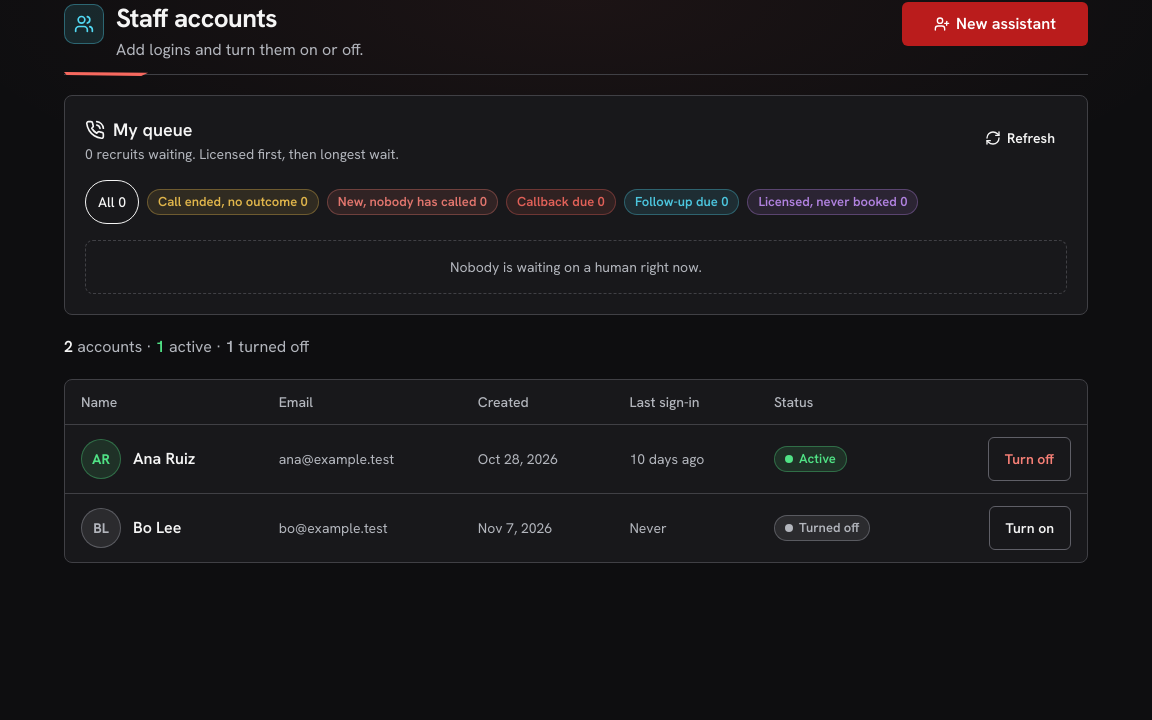
Test: Staff accounts › shows the password the server stored, even when it differs from the one sent
Click the button "New assistant" at (995, 24), box x1=902 y1=2 x2=1088 y2=46
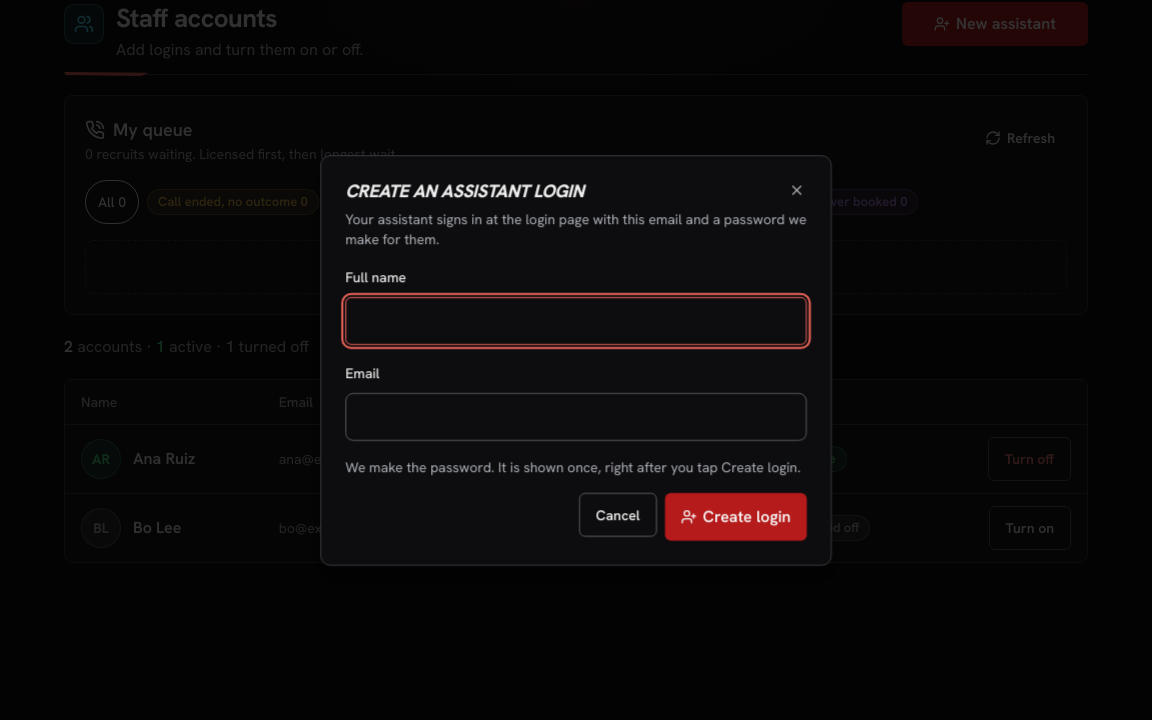
Type "Di Park" into the field labelled "Full name" at (576, 320), box x1=345 y1=296 x2=807 y2=344
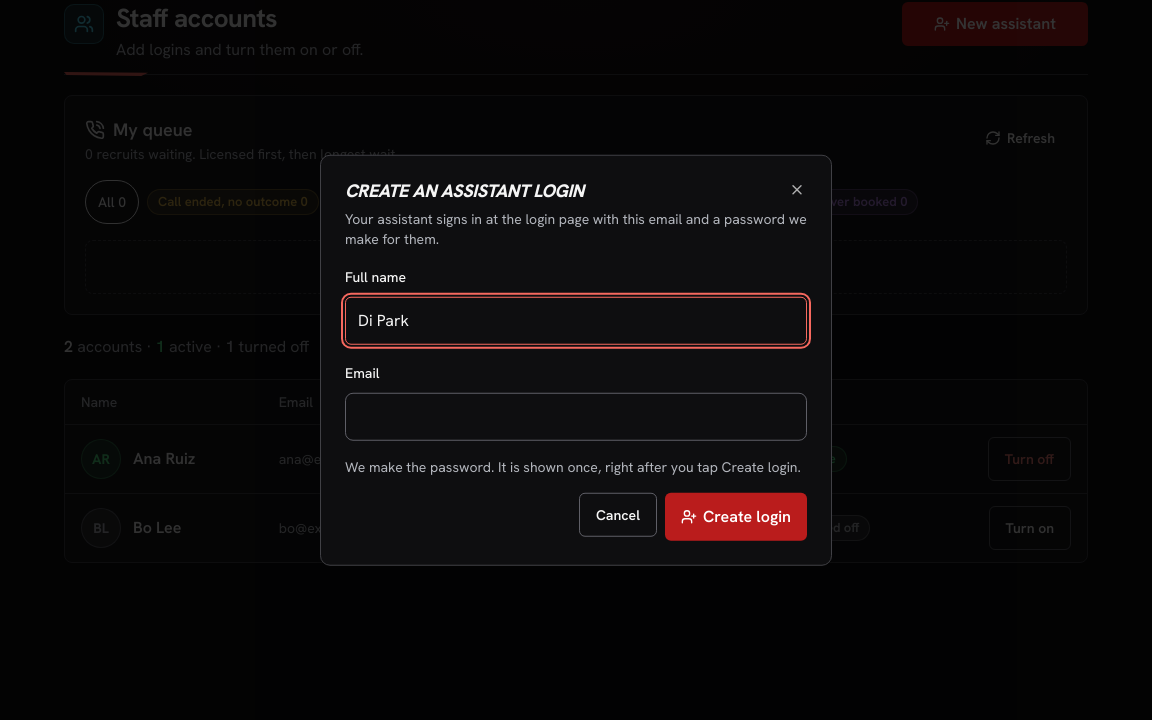
Type "di@example.test" into the field labelled "Email" at (576, 416), box x1=345 y1=392 x2=807 y2=440
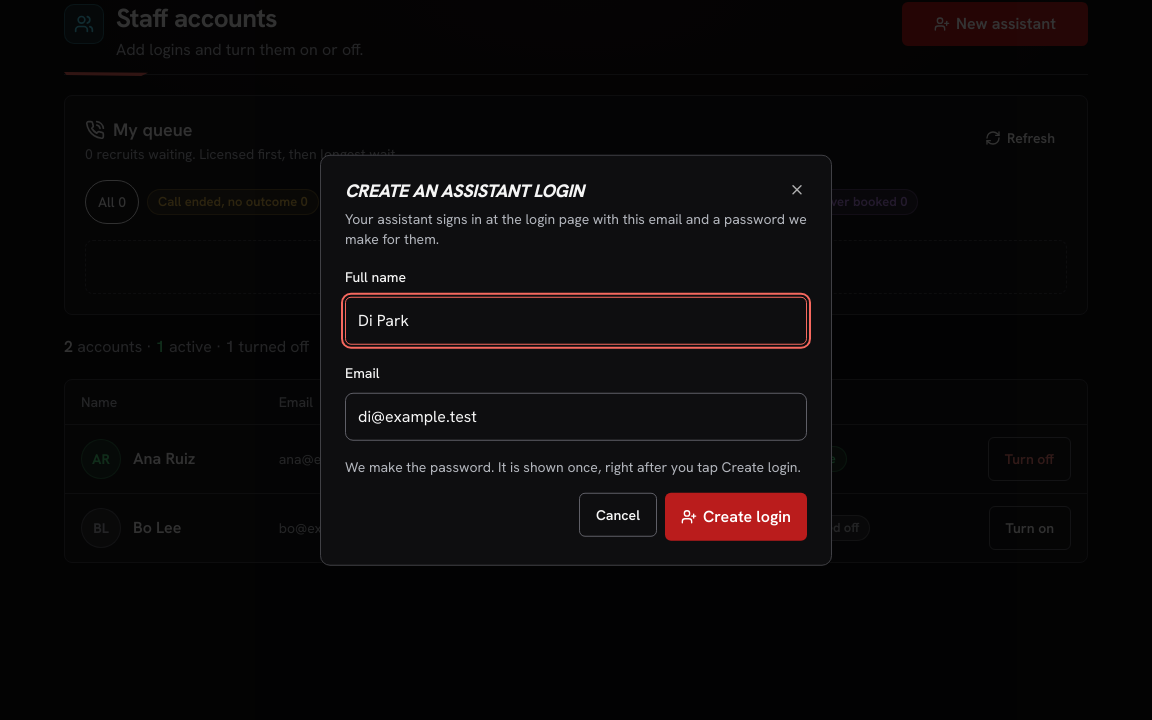
Click the button "Create login" at (736, 516), box x1=665 y1=492 x2=807 y2=540
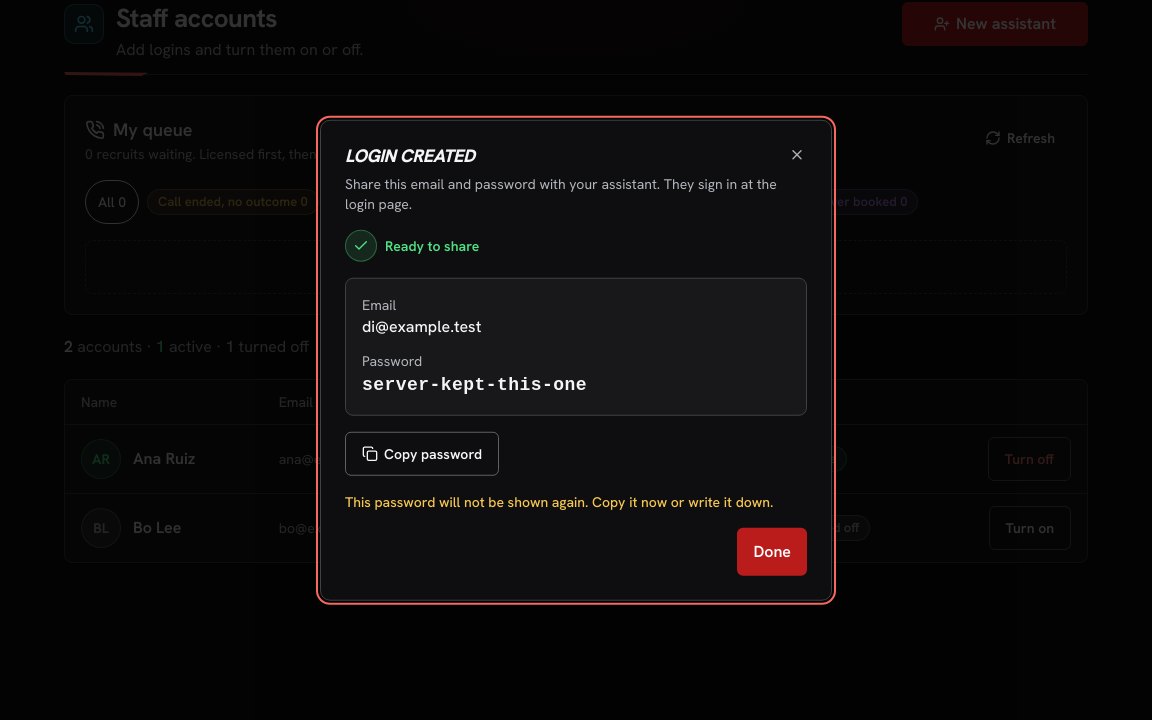
Check: the text "server-kept-this-one" is shown, box x1=362 y1=374 x2=587 y2=394
